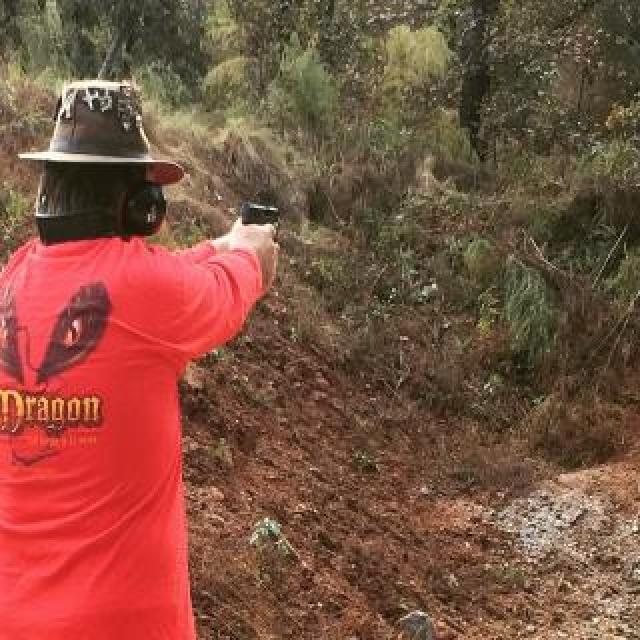Guns: (237, 197, 286, 231)
